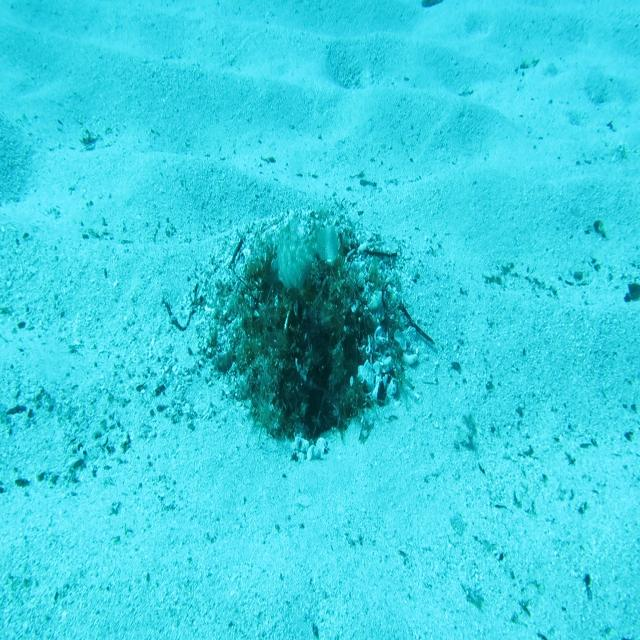NIP_CORE: (267, 211, 341, 300)
core_nest: (273, 261, 330, 303)
nest: (186, 188, 424, 471)
vegetation: (420, 0, 442, 11)
